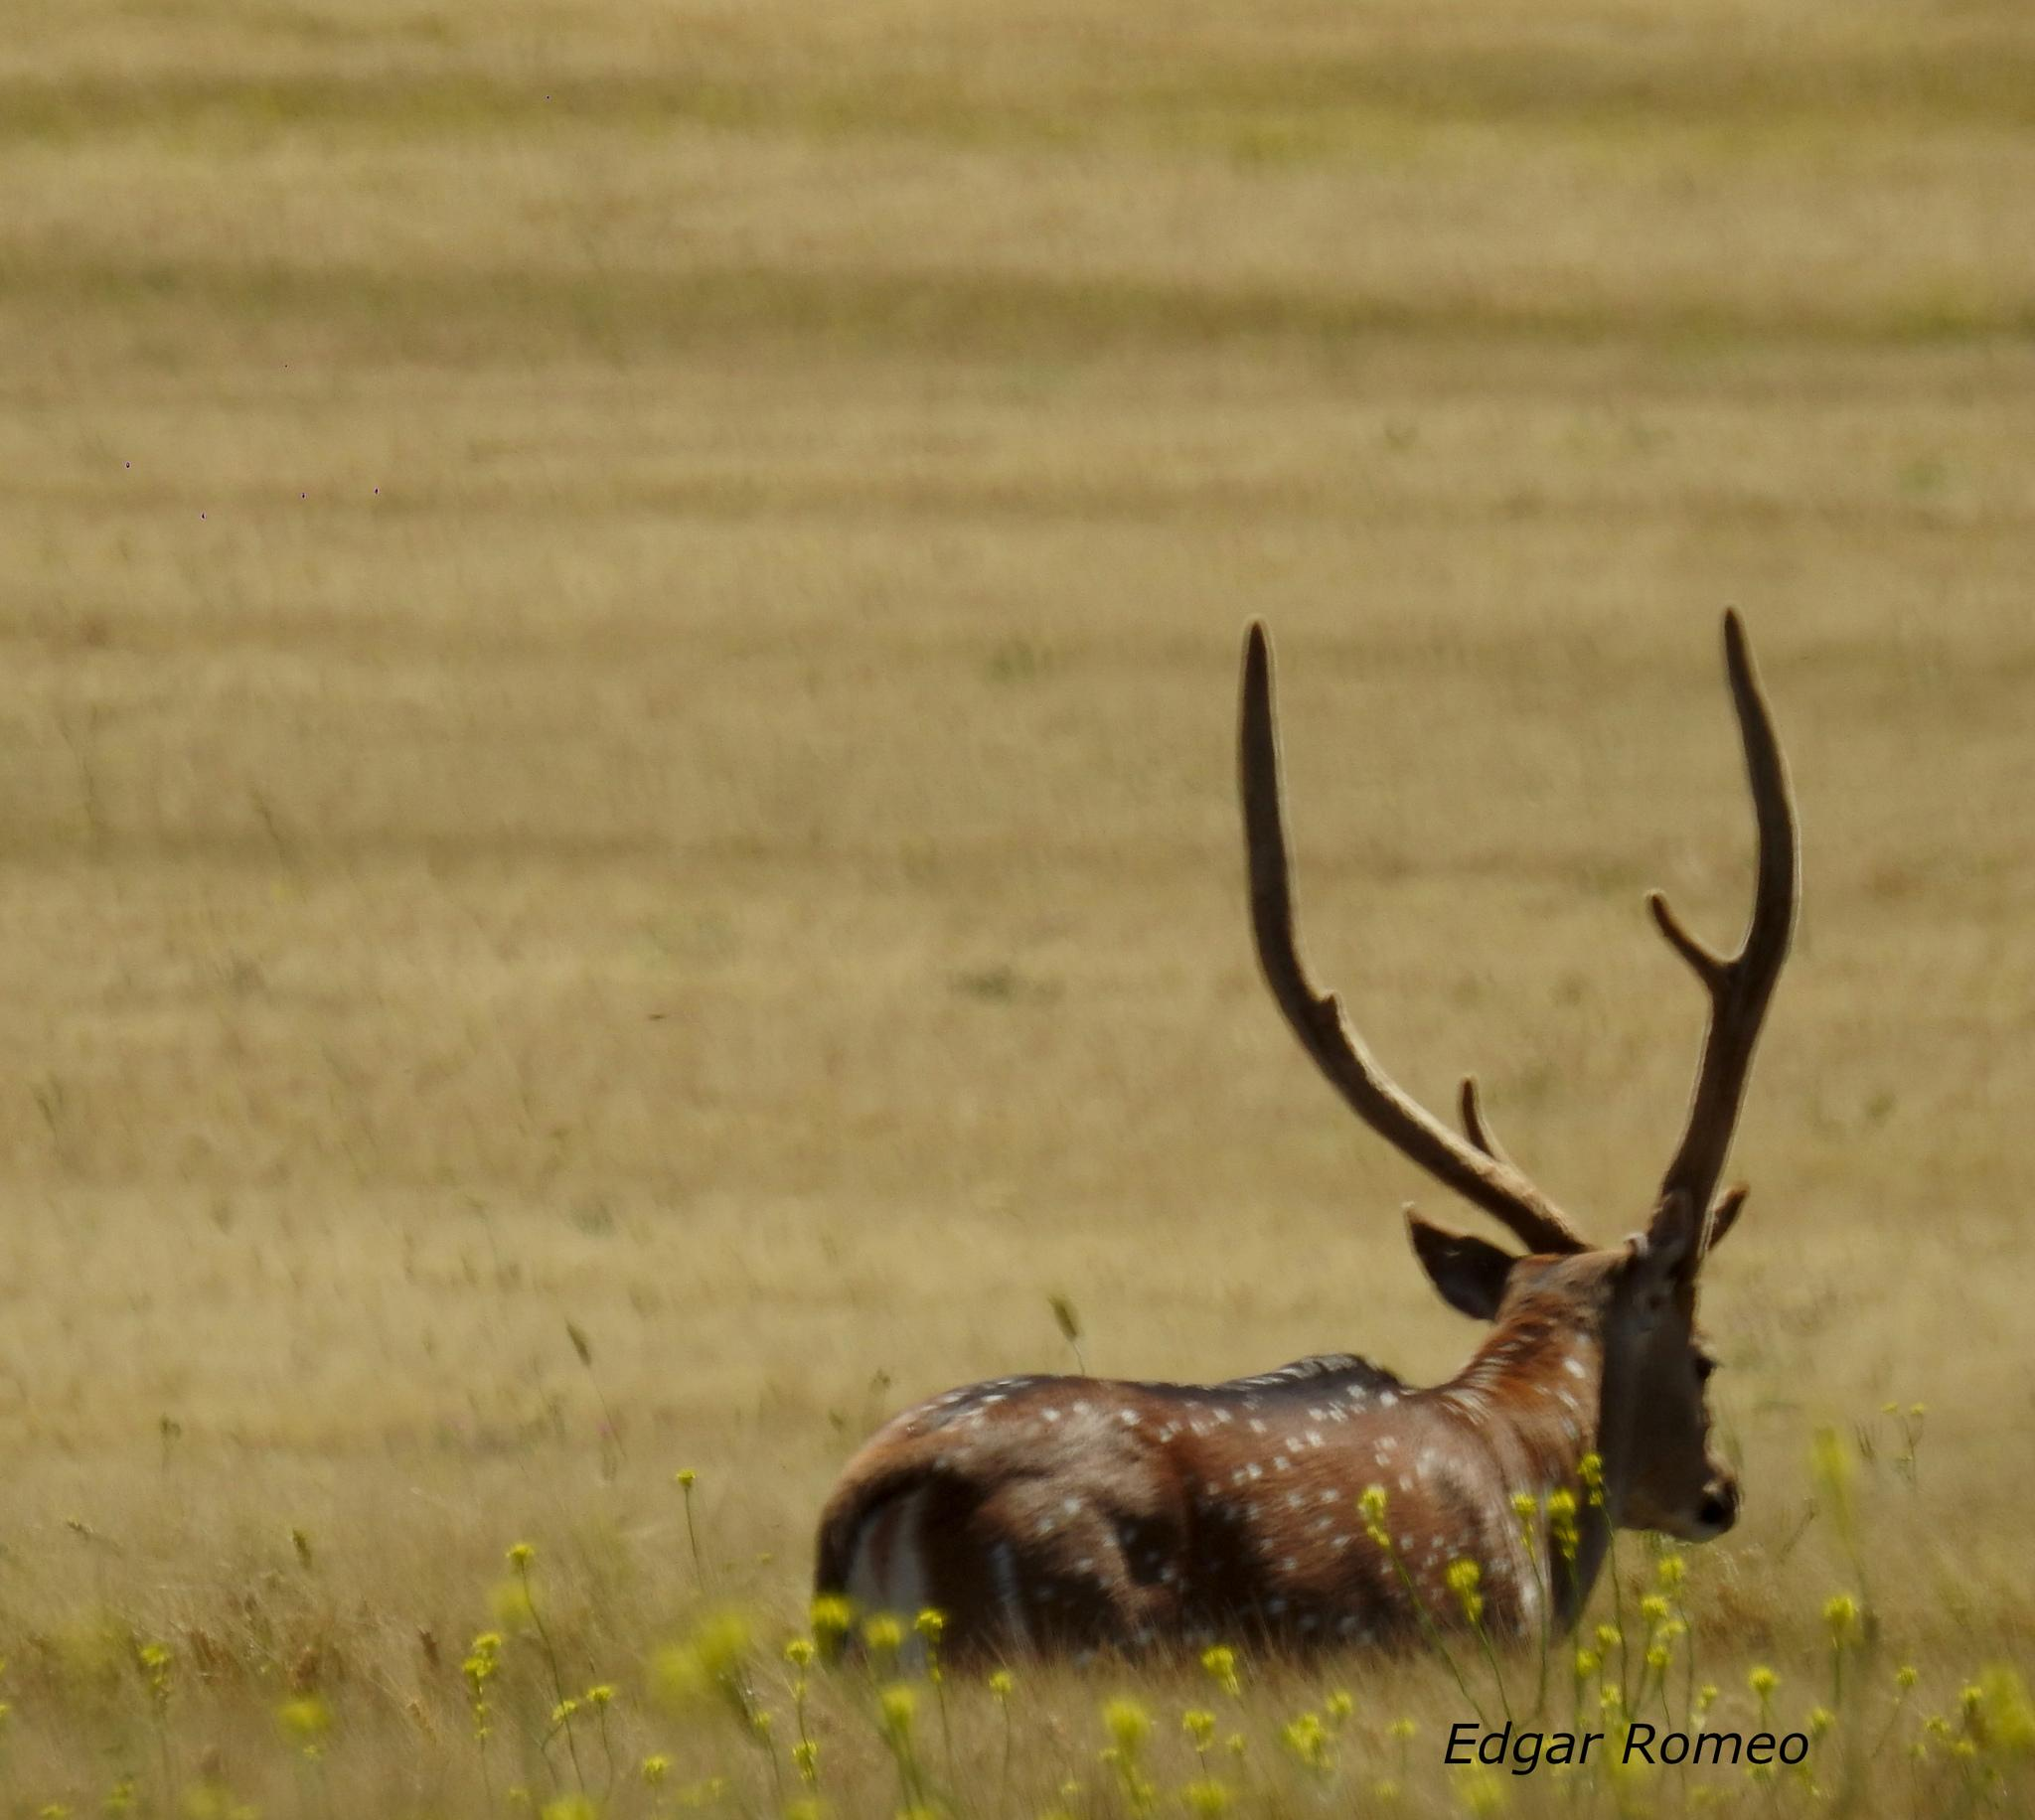Deer: (814, 613, 1796, 1662)
